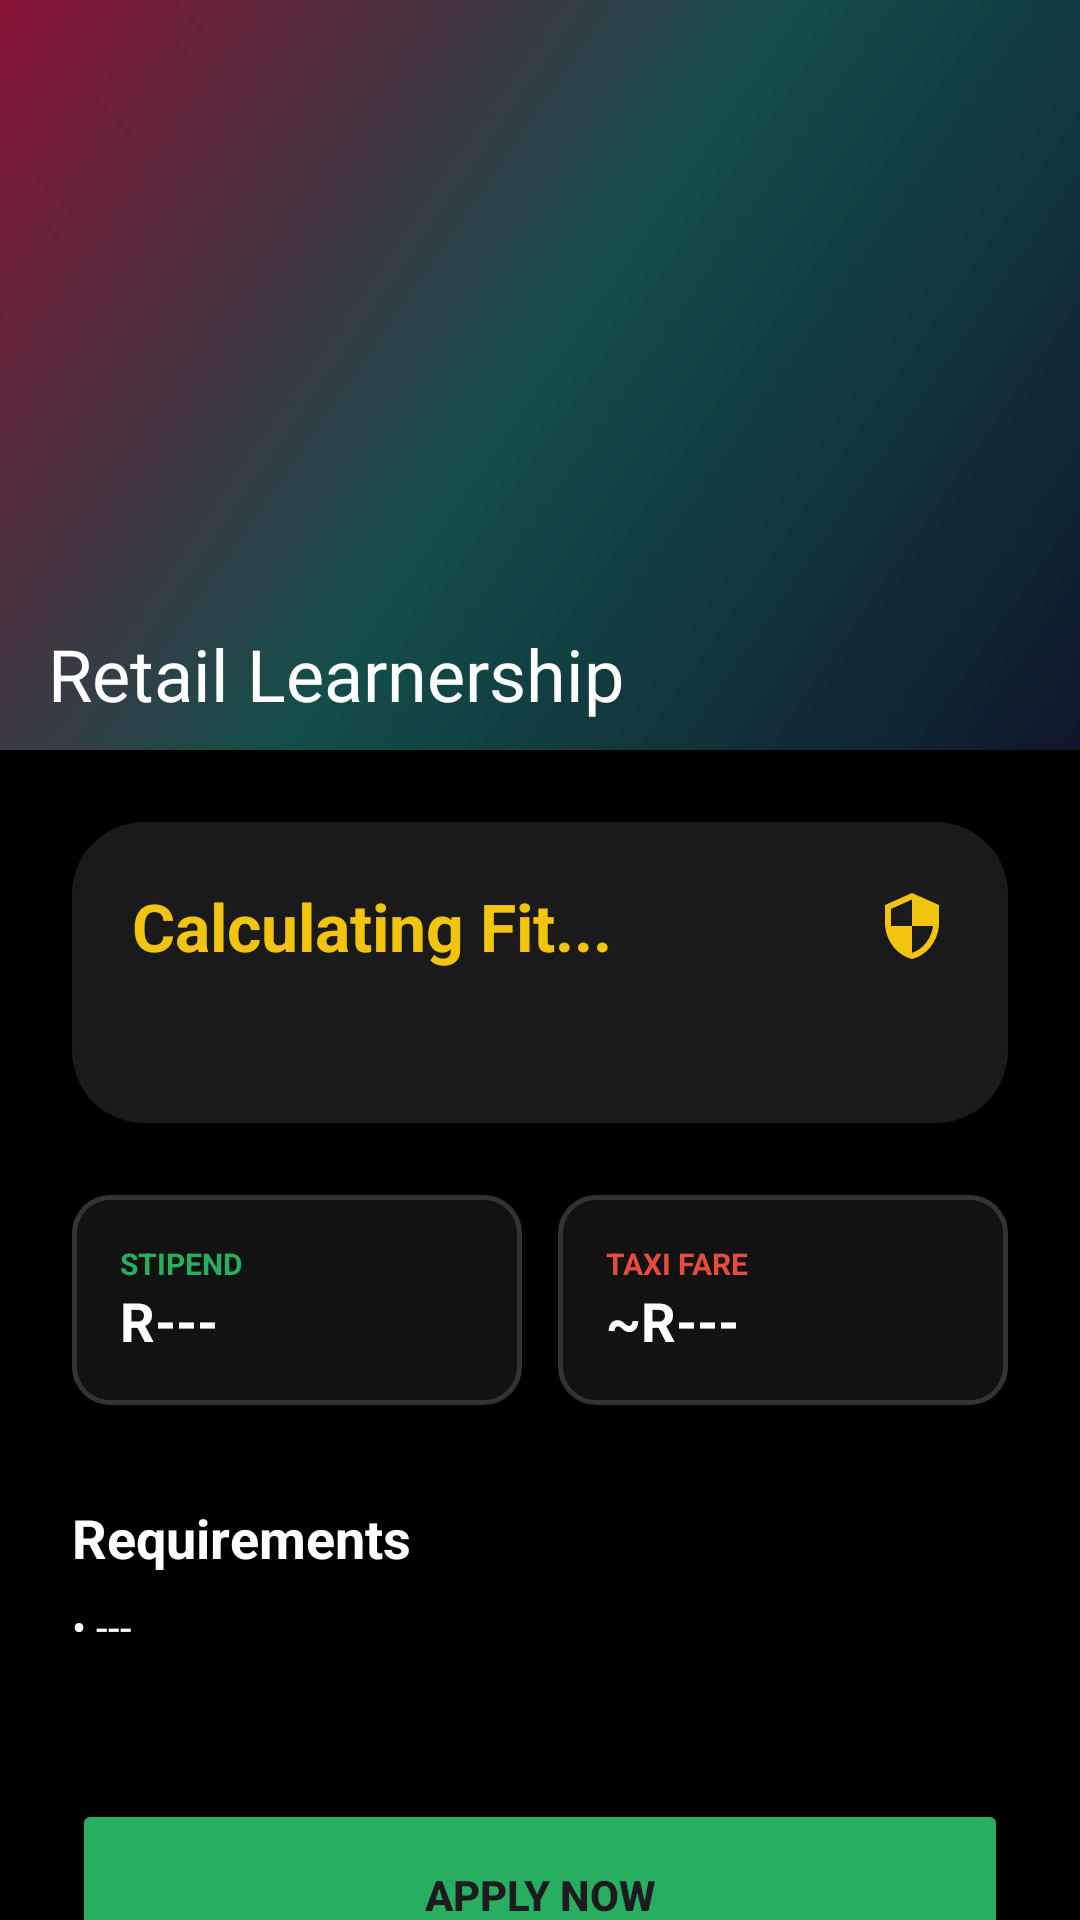

Screen size 1080 x 1920. Icon name, then its box in pixels as [x1,y1,x2,y2]:
shield gold: [885,893,939,959]
